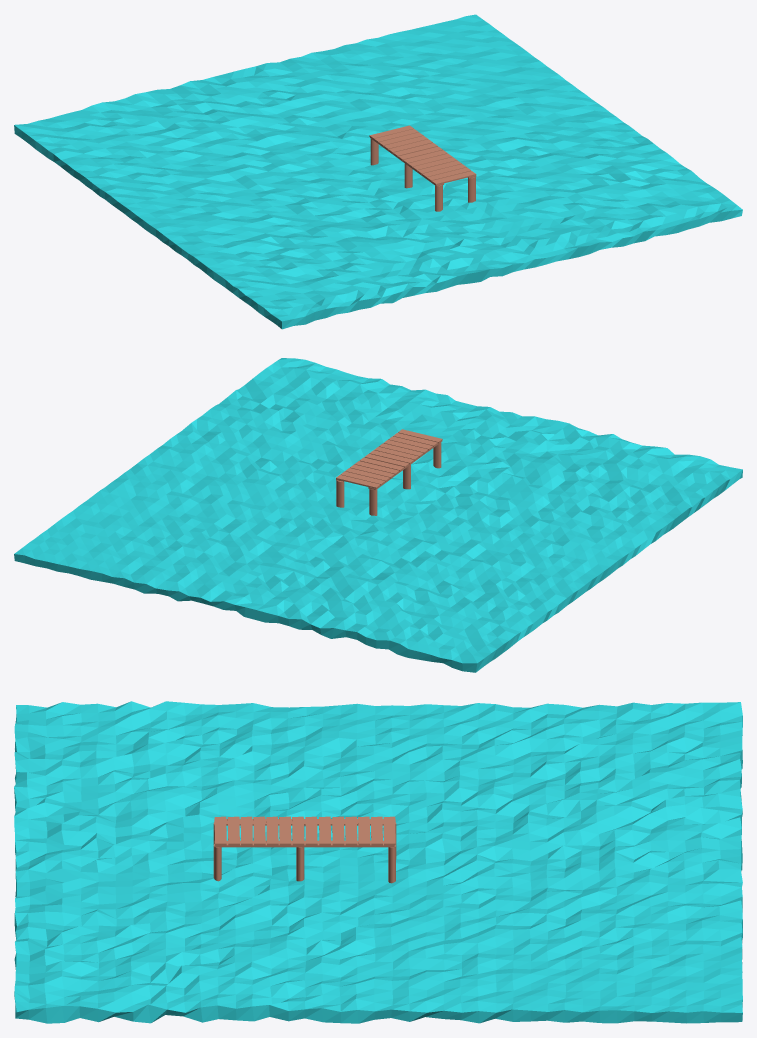
File: domiac.gltf
The picture shows the model from 3 angles, top to bottom: view 1: azimuth 30°, elevation 25°; view 2: azimuth 150°, elevation 25°; view 3: azimuth 270°, elevation 25°; orthographic projection. The views are drawn at different scales.
Visible parts, largest first — view 1: Cube, Cylinder; view 2: Cube, Cylinder; view 3: Cube, Cylinder.
Boxes of the visible parts, box(x1,y1,x2,y2) form: Cube: box(14, 14, 742, 329); Cylinder: box(369, 125, 476, 211); Cube: box(14, 358, 742, 672); Cylinder: box(336, 429, 442, 515); Cube: box(14, 701, 742, 1023); Cylinder: box(213, 816, 396, 883).
Size of the model in its own units: 124 by 13.23 by 125.
